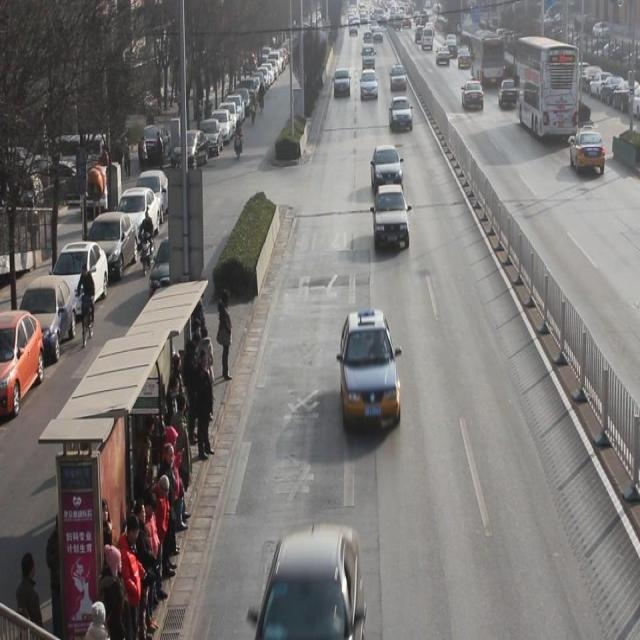car: (254, 526, 364, 640), (339, 312, 402, 426), (373, 184, 410, 251), (370, 146, 404, 198), (570, 131, 605, 177), (389, 97, 413, 134), (462, 80, 484, 112), (499, 80, 520, 110), (360, 68, 378, 100), (333, 67, 351, 99), (390, 65, 408, 94)
van: (514, 38, 578, 142), (468, 33, 504, 89)
